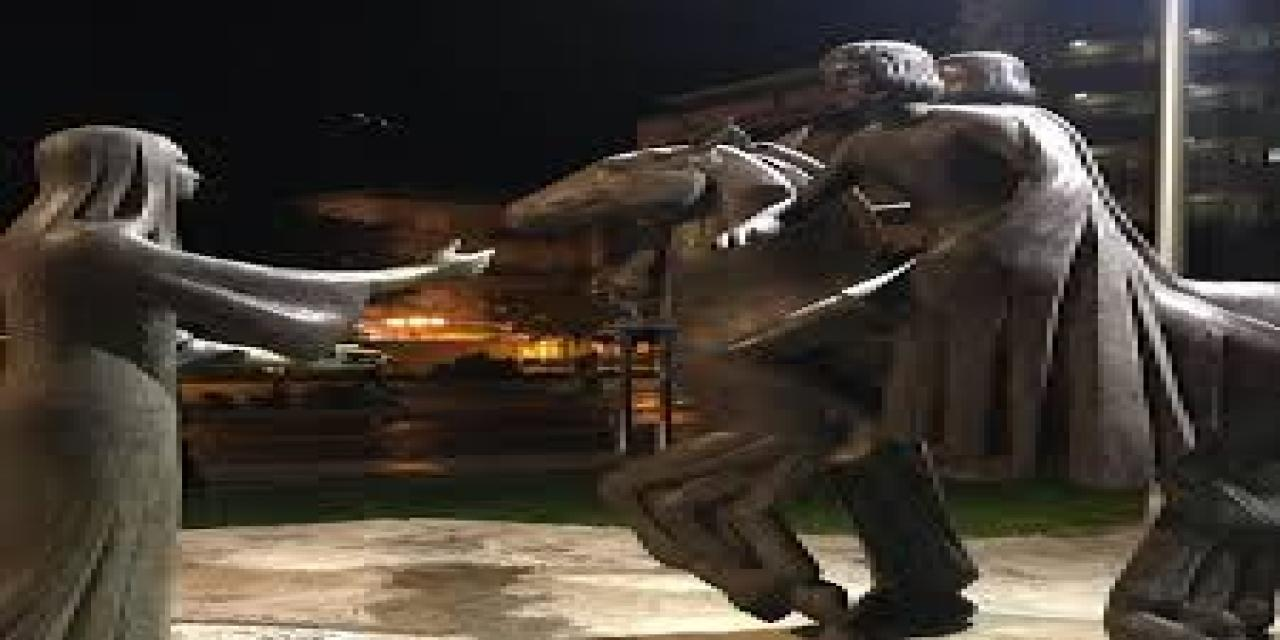Aretousa: (1, 36, 1280, 640)
